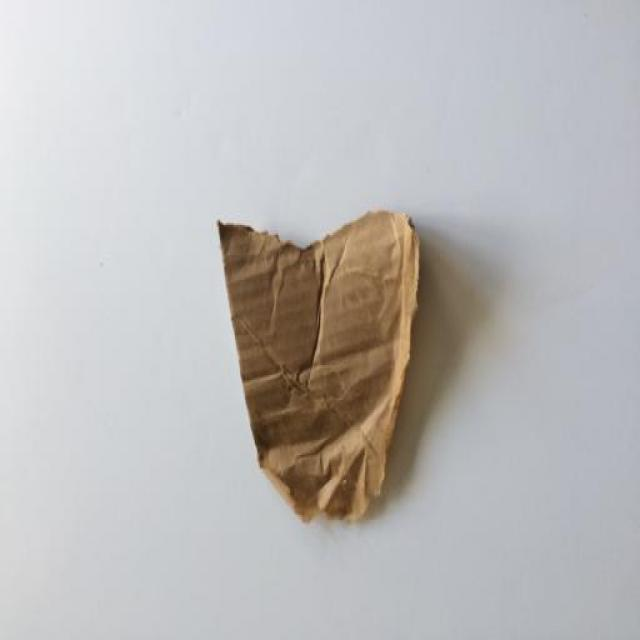cardboard: (207, 209, 427, 531)
